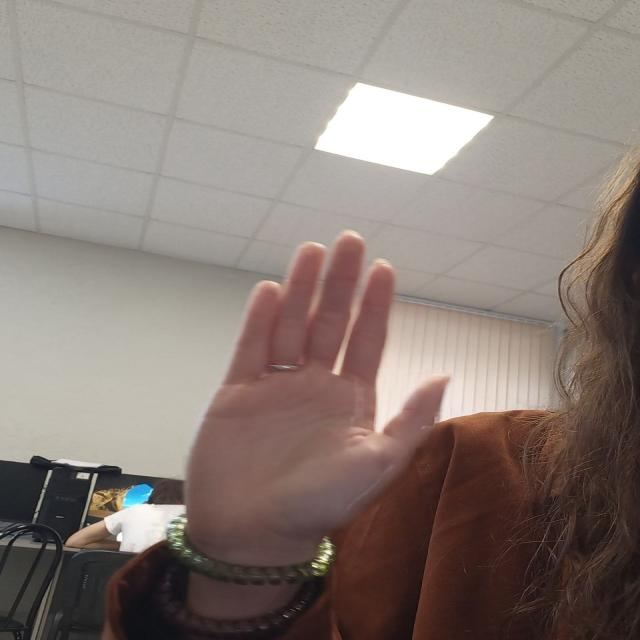v: (187, 224, 476, 538)
